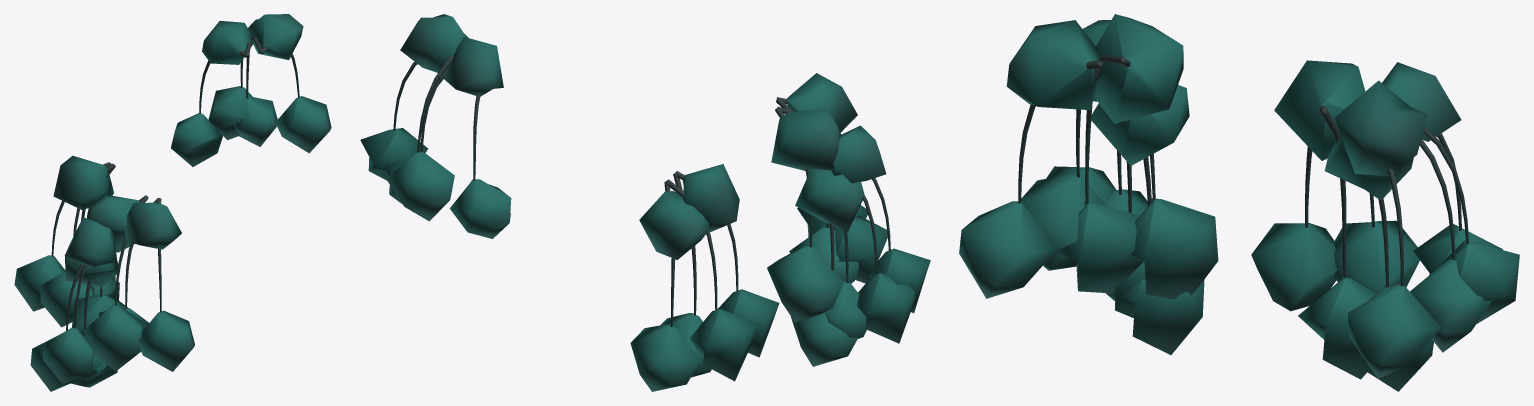
3 views of the same model, side by side, from view 1: azimuth 30°, elevation 25°; view 2: azimuth 150°, elevation 25°; view 3: azimuth 270°, elevation 25° (orthographic). The views are drawn at different scales.
Parts seen in each view (by area): view 1: fruit; view 2: fruit; view 3: fruit.
Boxes of the visible parts, left/top/right/bottom form: fruit: left=14, top=14, right=331, bottom=391; fruit: left=360, top=14, right=930, bottom=391; fruit: left=959, top=14, right=1519, bottom=391.
Size of the model in its own units: 0.5 by 0.3517 by 0.3772.
